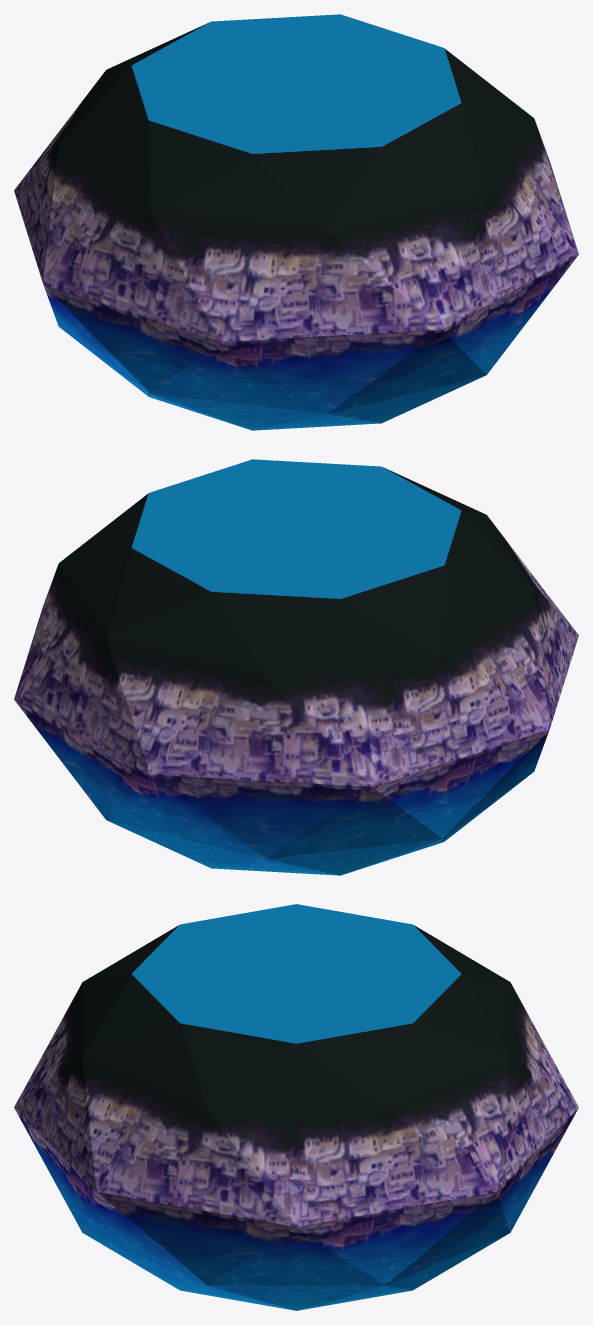
3 renders of one model, top to bottom at view 1: azimuth 30°, elevation 25°; view 2: azimuth 150°, elevation 25°; view 3: azimuth 270°, elevation 25°, orthographic. The views are drawn at different scales.
Visible parts, largest first — view 1: world_root; view 2: world_root; view 3: world_root.
Boxes of the visible parts, x1,y1,x2,y2 form: world_root: [14, 14, 578, 430]; world_root: [14, 459, 578, 875]; world_root: [14, 904, 578, 1310].
Bounding box in the file's own units: 117964 × 61688 × 117964.
